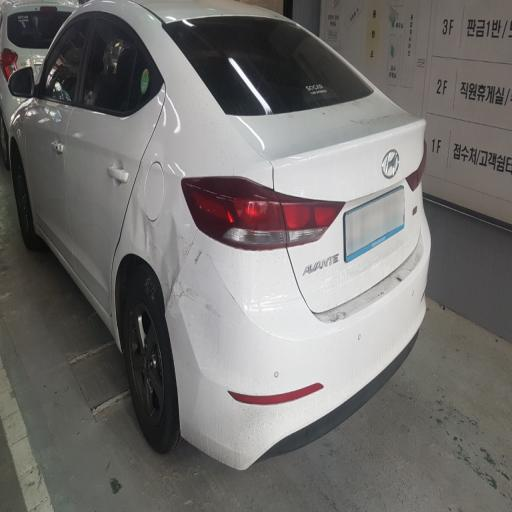dent: (134, 145, 240, 401)
scratch: (244, 248, 330, 364)
